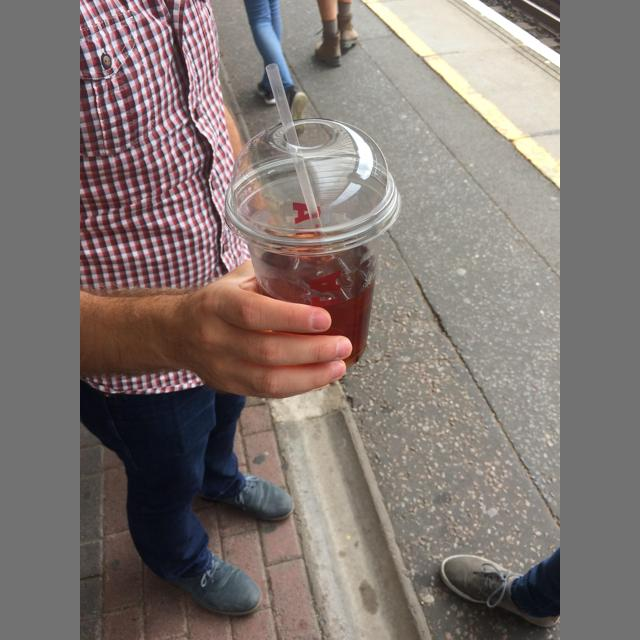litter: (226, 160, 393, 369), (223, 118, 401, 255), (266, 63, 325, 238)
